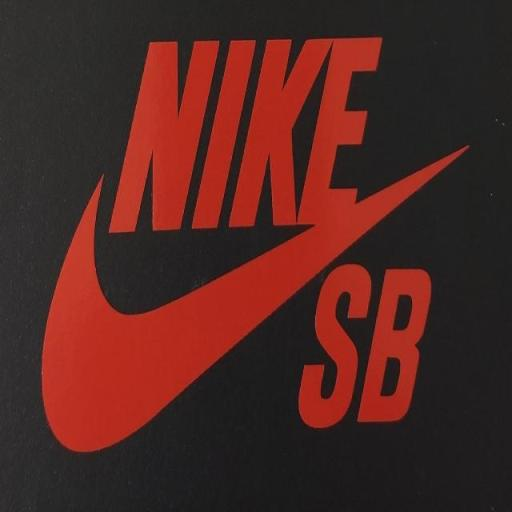Nike: (40, 212, 383, 457), (106, 29, 386, 242)
